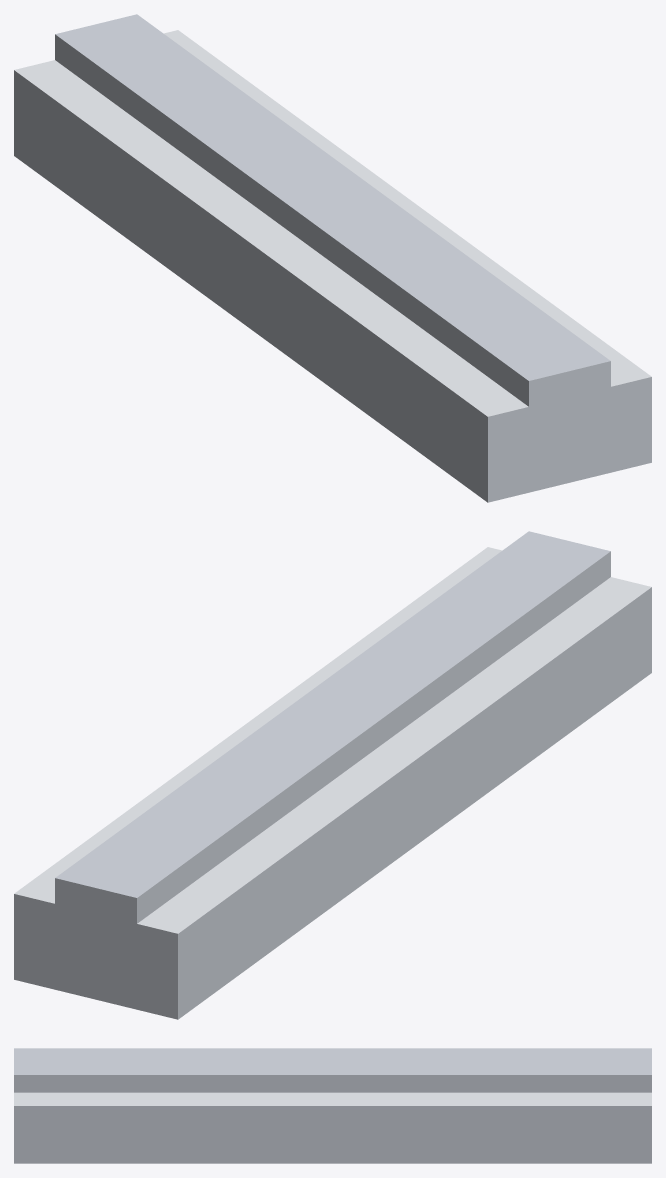
File: monorail_trackStraight.glb
The picture shows the model from 3 angles, top to bottom: view 1: azimuth 30°, elevation 25°; view 2: azimuth 150°, elevation 25°; view 3: azimuth 270°, elevation 25°; orthographic projection. The views are drawn at different scales.
Parts seen in each view (by area): view 1: monorail_trackStraight; view 2: monorail_trackStraight; view 3: monorail_trackStraight.
Part boxes in pixels (box(x1,y1,x2,y2)): monorail_trackStraight: box(14, 14, 651, 502); monorail_trackStraight: box(14, 531, 651, 1019); monorail_trackStraight: box(14, 1048, 651, 1163).
Bounding box in the file's own units: 0.2 × 0.13 × 1.
Materials: 1 (1 with a texture image).
